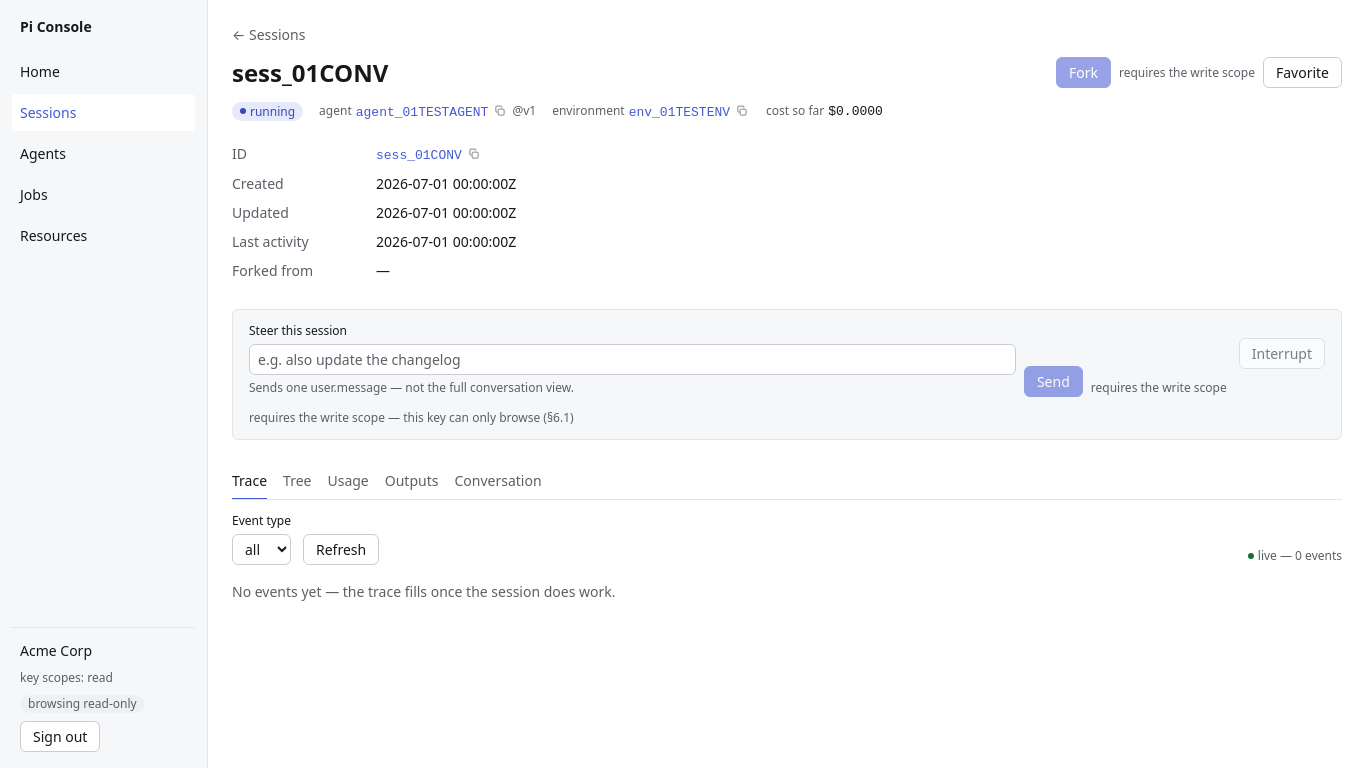
live updates (§8.2 cache discipline — stream owned by the page) › a running session says so, and a status frame refetches the messages
The width and height of the screenshot is (1366, 768).
expect the element named "Session detail" is shown: met, box 232,464 -> 1342,500
Click the tab "Conversation": (498, 482) 454,464 -> 542,500
(page scrolled)
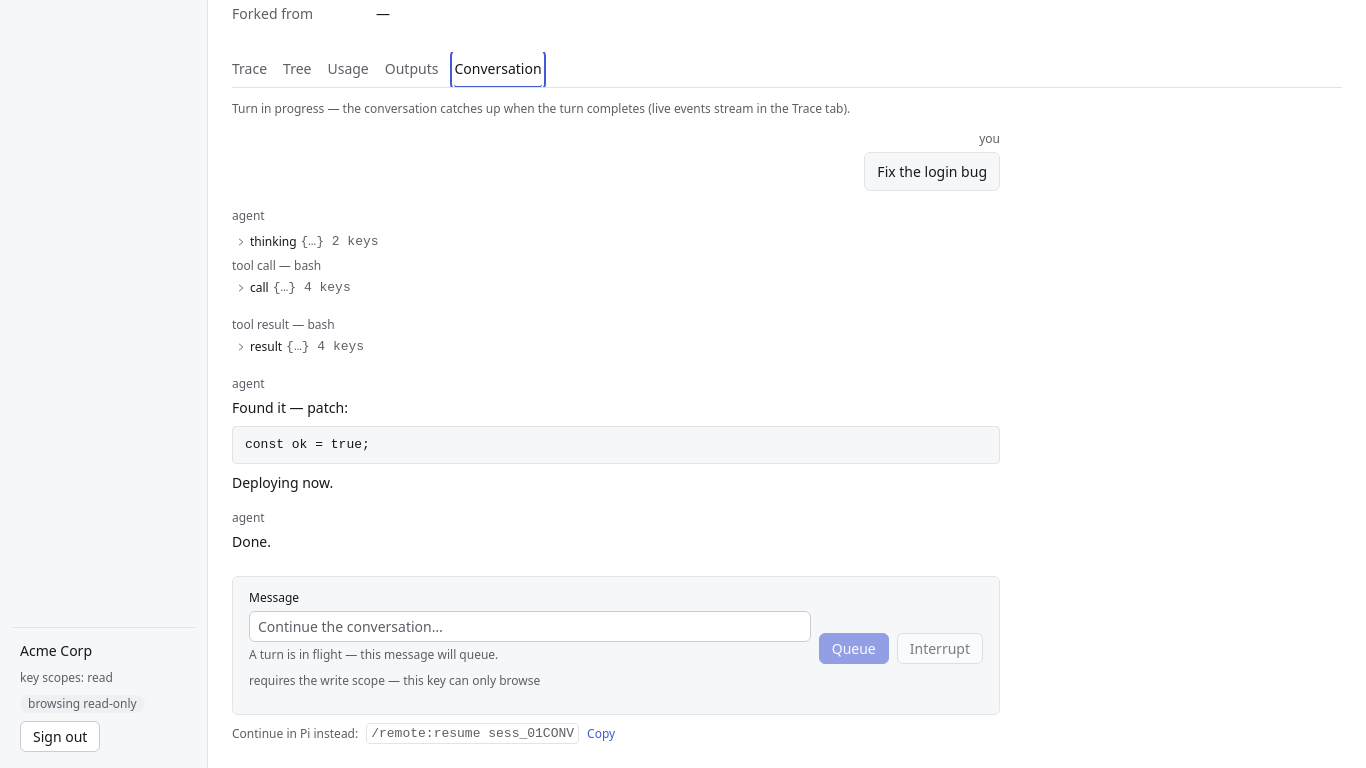
expect the list named "Conversation" is shown: met, box 232,130 -> 1000,552
expect the text "Turn in progress — the conversation catches up" is shown: met, box 232,100 -> 850,117
expect the text "Done." is shown: met, box 232,532 -> 271,551
